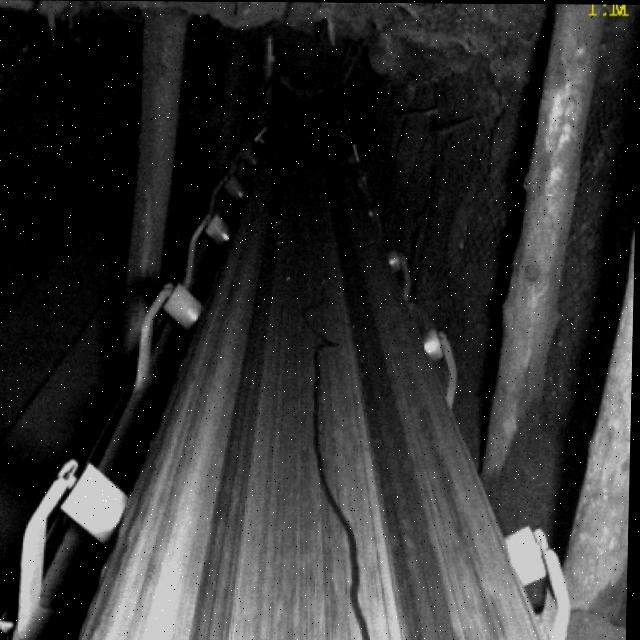bolt: (302, 277, 376, 640)
